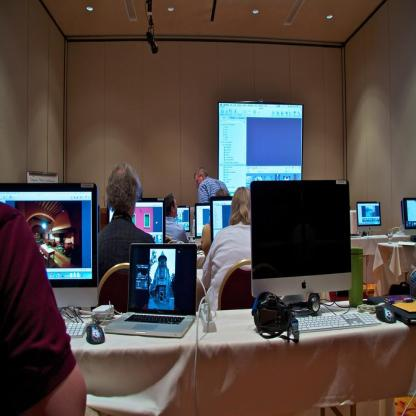board: (112, 240, 196, 346)
